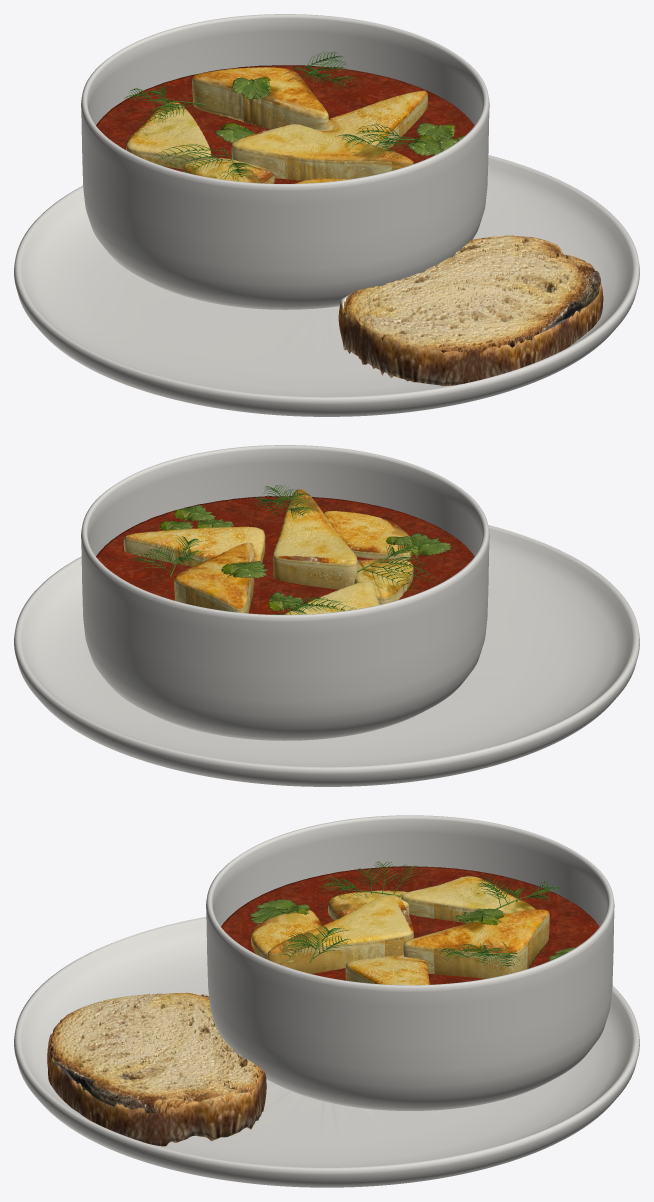
File: restaurant_dish_photoreal_12MB.glb
3 renders of one model, top to bottom at view 1: azimuth 30°, elevation 25°; view 2: azimuth 150°, elevation 25°; view 3: azimuth 270°, elevation 25°, orthographic.
Parts seen in each view (by area): view 1: 02 | deep white ceramic bowl • full interior, 01 | round white ceramic plate • closed underside, 05 | rustic bread • closed slice with recessed pores, 04 | rich sauce • closed volume and meniscus, 03 | seared triangular piece • front center, 03 | seared triangular piece • back center, 07 | four individual dill sprigs • stems and fine curved lea, 03 | seared triangular piece • back left, 03 | seared triangular piece • right, 03 | seared triangular piece • left underlap, 06 | cilantro leaf 03; view 2: 02 | deep white ceramic bowl • full interior, 01 | round white ceramic plate • closed underside, 04 | rich sauce • closed volume and meniscus, 03 | seared triangular piece • front center, 03 | seared triangular piece • right, 03 | seared triangular piece • back center, 07 | four individual dill sprigs • stems and fine curved lea, 03 | seared triangular piece • front underlap, 03 | seared triangular piece • left underlap, 03 | seared triangular piece • back left, 06 | cilantro leaf 04, 06 | cilantro leaf 03 (+1 smaller); view 3: 02 | deep white ceramic bowl • full interior, 01 | round white ceramic plate • closed underside, 05 | rustic bread • closed slice with recessed pores, 04 | rich sauce • closed volume and meniscus, 03 | seared triangular piece • back center, 03 | seared triangular piece • front center, 07 | four individual dill sprigs • stems and fine curved lea, 03 | seared triangular piece • back left, 03 | seared triangular piece • right, 03 | seared triangular piece • front underlap, 03 | seared triangular piece • left underlap, 06 | cilantro leaf 04 (+1 smaller).
Boxes of the visible parts, box(x1,y1,x2,y2) form: 02 | deep white ceramic bowl • full interior: box(81, 14, 489, 309); 01 | round white ceramic plate • closed underside: box(14, 155, 639, 416); 05 | rustic bread • closed slice with recessed pores: box(338, 235, 603, 386); 04 | rich sauce • closed volume and meniscus: box(96, 65, 474, 183); 03 | seared triangular piece • front center: box(231, 124, 413, 180); 03 | seared triangular piece • back center: box(192, 67, 328, 129); 07 | four individual dill sprigs • stems and fine curved lea: box(124, 51, 425, 180); 03 | seared triangular piece • back left: box(126, 102, 211, 169); 03 | seared triangular piece • right: box(315, 90, 427, 149); 03 | seared triangular piece • left underlap: box(183, 157, 274, 183); 06 | cilantro leaf 03: box(231, 77, 270, 99); 02 | deep white ceramic bowl • full interior: box(81, 445, 489, 740); 01 | round white ceramic plate • closed underside: box(14, 525, 639, 786); 04 | rich sauce • closed volume and meniscus: box(96, 496, 474, 614); 03 | seared triangular piece • front center: box(273, 489, 357, 589); 03 | seared triangular piece • right: box(123, 526, 265, 566); 03 | seared triangular piece • back center: box(174, 542, 254, 613); 07 | four individual dill sprigs • stems and fine curved lea: box(129, 485, 437, 614); 03 | seared triangular piece • front underlap: box(324, 511, 411, 560); 03 | seared triangular piece • left underlap: box(354, 558, 413, 604); 03 | seared triangular piece • back left: box(284, 581, 379, 614); 06 | cilantro leaf 04: box(409, 533, 451, 557); 06 | cilantro leaf 03: box(221, 561, 268, 578); 02 | deep white ceramic bowl • full interior: box(206, 815, 614, 1110); 01 | round white ceramic plate • closed underside: box(14, 917, 639, 1187); 05 | rustic bread • closed slice with recessed pores: box(47, 992, 266, 1146); 04 | rich sauce • closed volume and meniscus: box(221, 866, 599, 984); 03 | seared triangular piece • back center: box(403, 909, 549, 978); 03 | seared triangular piece • front center: box(267, 895, 413, 973); 07 | four individual dill sprigs • stems and fine curved lea: box(280, 861, 562, 968); 03 | seared triangular piece • back left: box(401, 876, 535, 923); 03 | seared triangular piece • right: box(345, 954, 429, 985); 03 | seared triangular piece • front underlap: box(251, 910, 322, 959); 03 | seared triangular piece • left underlap: box(328, 890, 409, 920); 06 | cilantro leaf 04: box(249, 899, 296, 923).
Bounding box in the file's own units: 0.278 × 0.0838 × 0.278.
11 materials, 6 textured.
